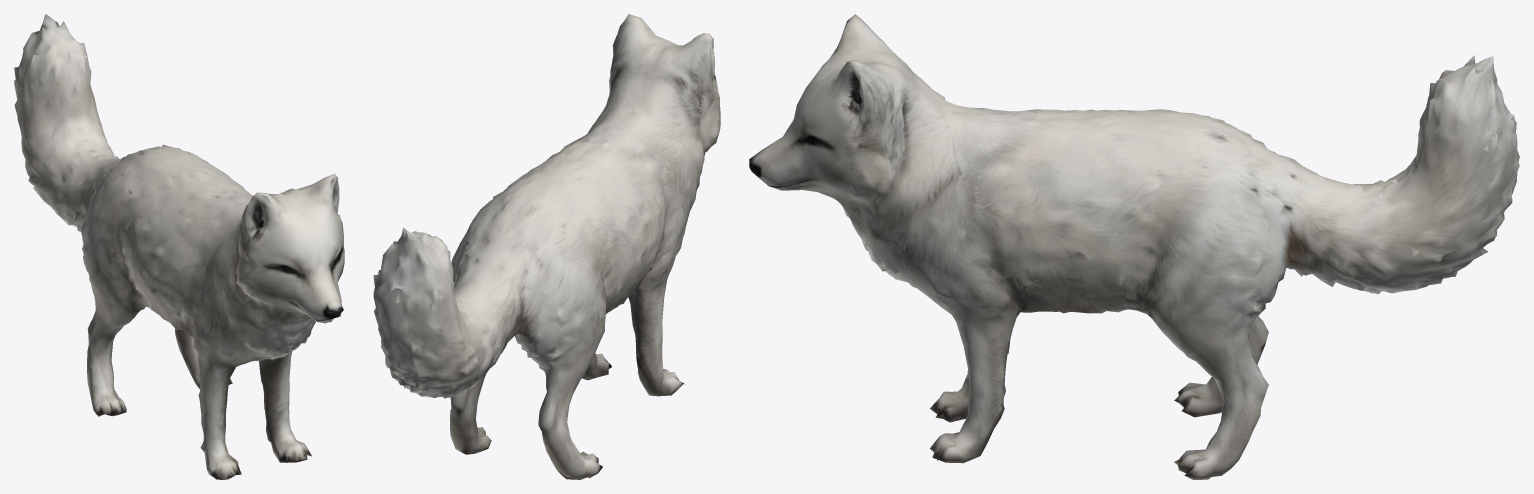
The model's file is arctic-fox.glb.
3 views of the same model, side by side, from view 1: azimuth 30°, elevation 25°; view 2: azimuth 150°, elevation 25°; view 3: azimuth 270°, elevation 25° (orthographic). The views are drawn at different scales.
Parts seen in each view (by area): view 1: Object_4; view 2: Object_4; view 3: Object_4.
Boxes of the visible parts, <box> form: Object_4: <box>14,14,344,479</box>; Object_4: <box>373,14,720,479</box>; Object_4: <box>749,14,1519,479</box>.
Bounding box in the file's own units: 0.5105 × 1.16 × 2.
Materials: 1 (1 with a texture image).
